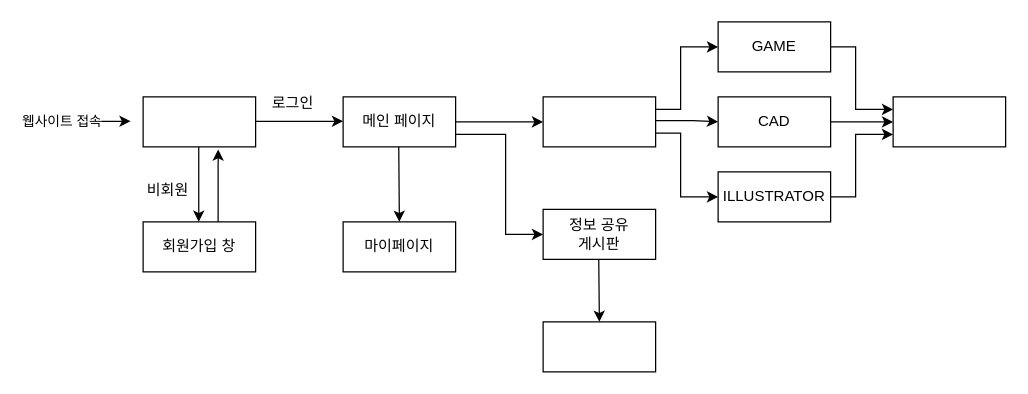
Some shapes in this 1028 by 394 pixel diagram are drawn without their labels. The centre of each missing label's shape, as x and y in pixels:
"게시글" belongs at point (599, 346).
"로그인 페이지" belongs at point (199, 121).
"사양 비교 페이지" belongs at point (949, 121).
"프로그램" belongs at point (599, 121).
